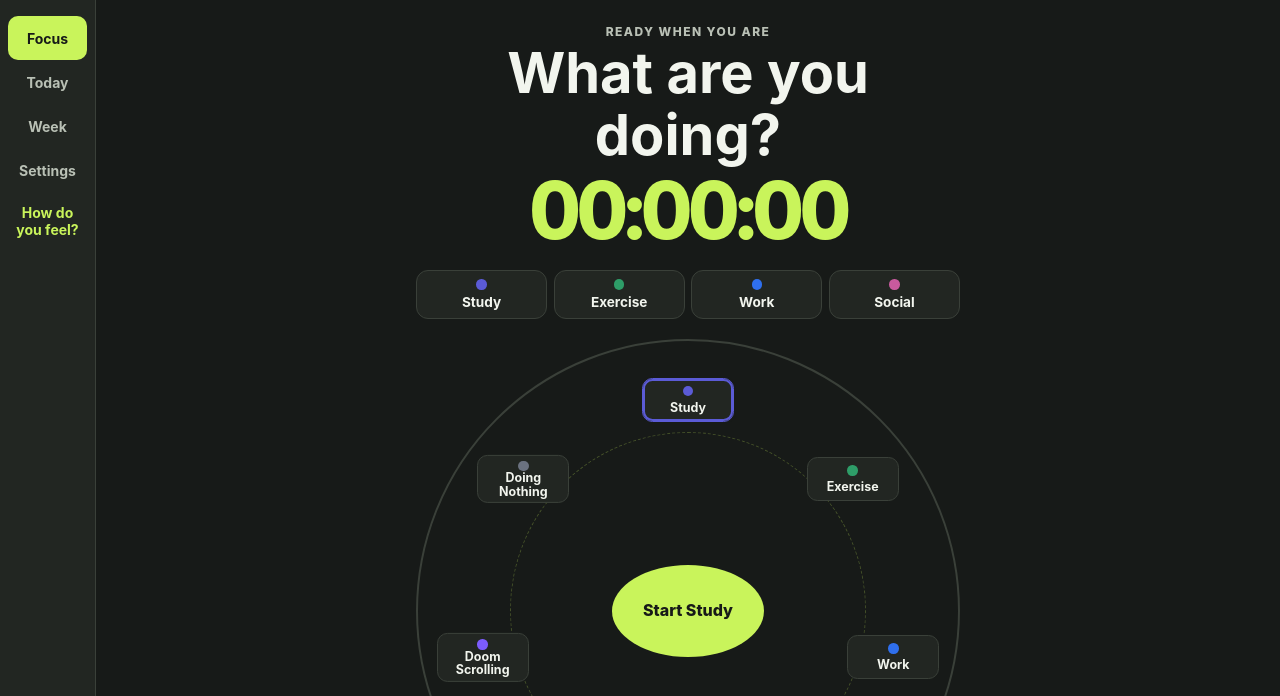
Test: opens on Focus and navigates among all four destinations
Expected: the heading "What are you doing?" is shown, x1=507 y1=39 x2=869 y2=169
Click the button "Today".
click(48, 82)  # box x1=8 y1=60 x2=87 y2=104
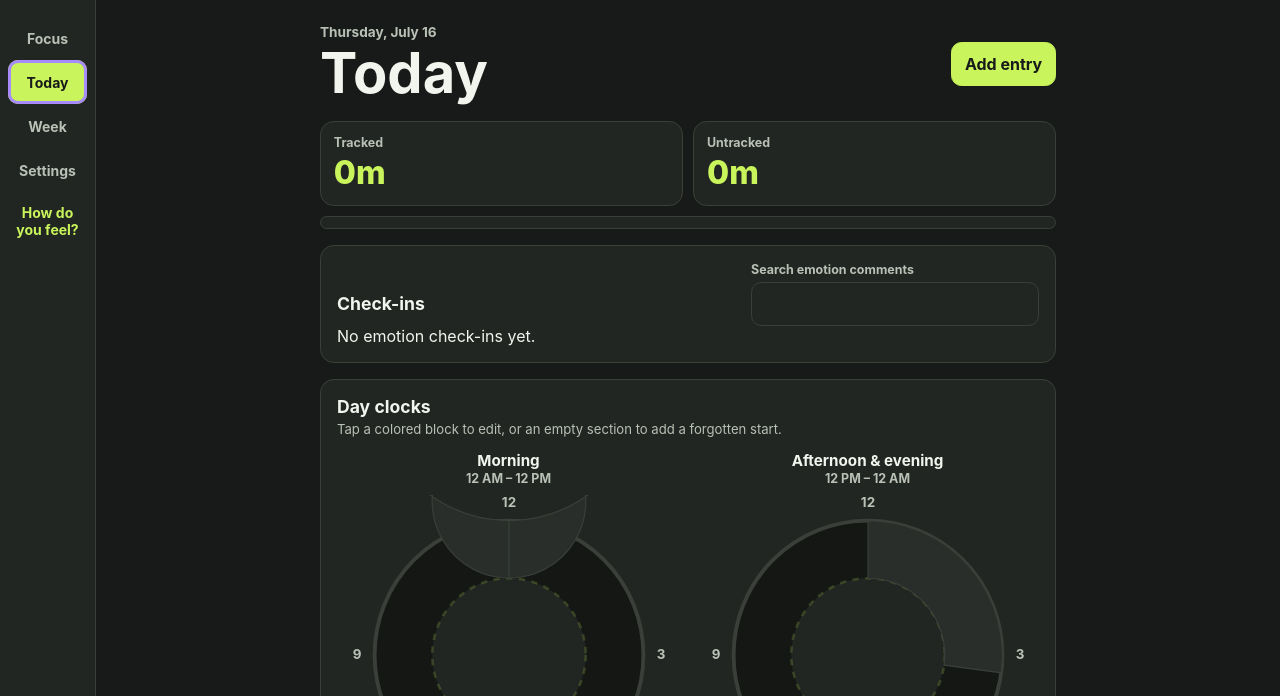
Expected: the heading "Today" is shown, x1=320 y1=43 x2=488 y2=105
Click the button "Week".
click(48, 126)  # box x1=8 y1=104 x2=87 y2=148
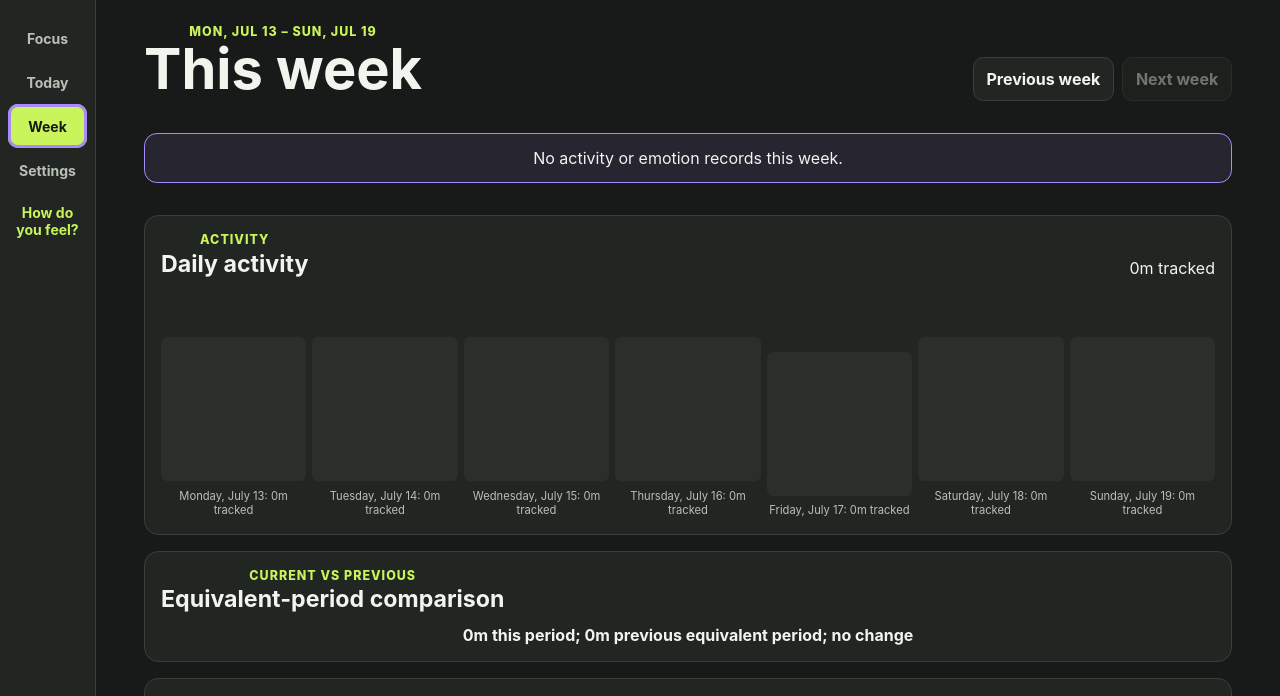
Expected: the heading "This week" is shown, x1=144 y1=39 x2=422 y2=101
Click the button "Settings".
click(48, 170)  # box x1=8 y1=148 x2=87 y2=192
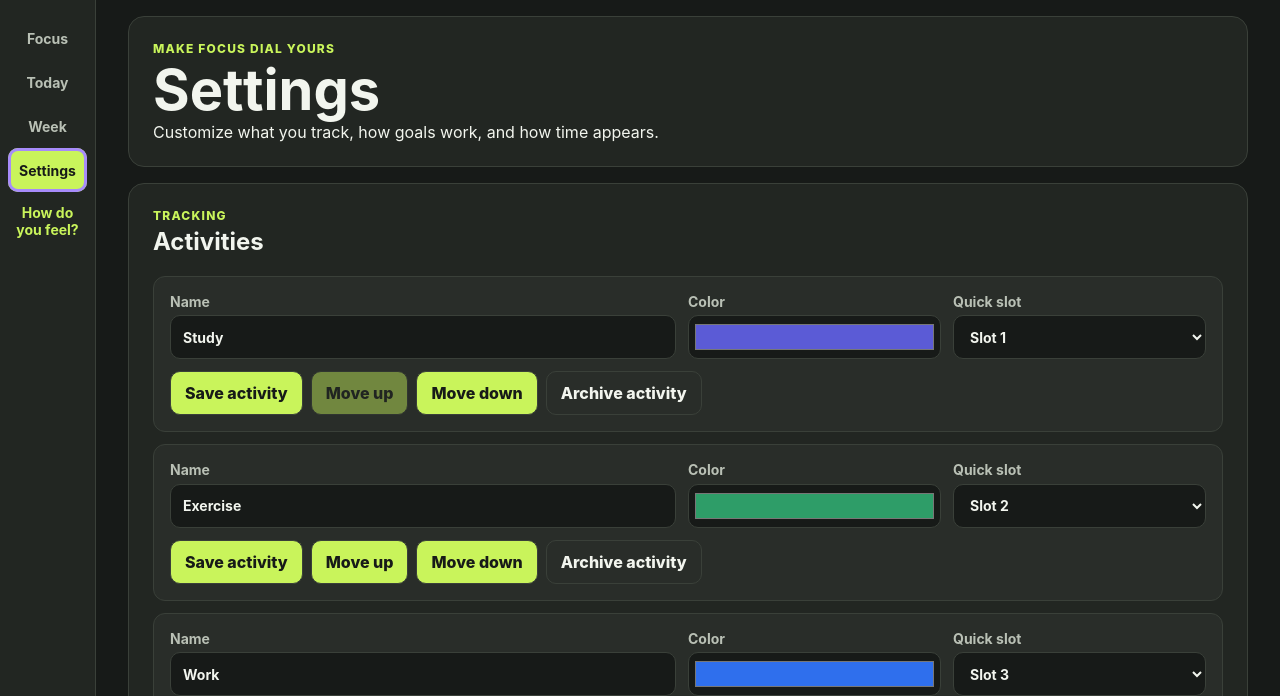
Expected: the heading "Settings" is shown, x1=153 y1=56 x2=380 y2=124
